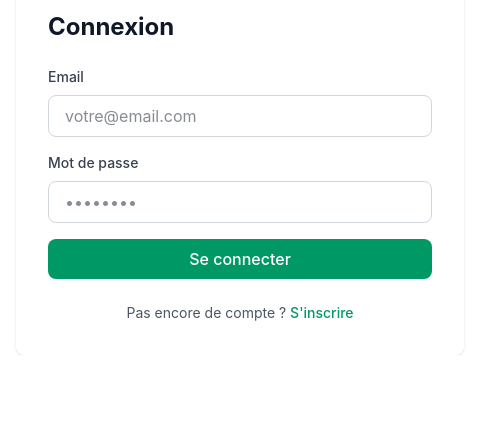
Test: LoginForm › ne devrait pas appeler setUser si la connexion échoue
This screenshot has width=481, height=438.
Type "test@example.com" into the field labelled "Email". click: (240, 116)
box: [48, 95, 432, 137]
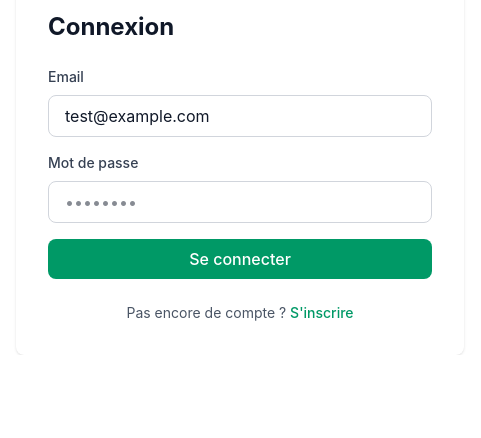
Type "password123" into the password field labelled "Mot de passe". click: (240, 202)
box: [48, 181, 432, 223]
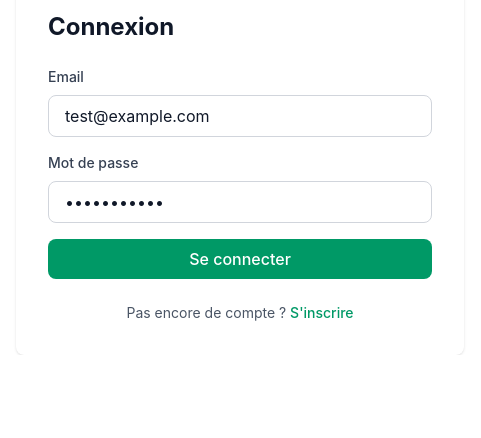
Submit the form "Email Mot de passe Se connecter", box [48, 67, 432, 279]
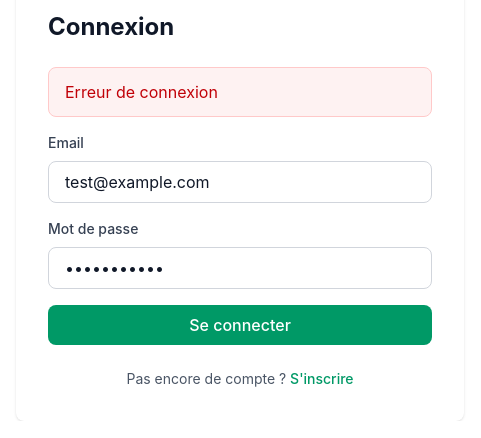
Expected: the text "Erreur de connexion" is shown, [48, 67, 432, 117]
